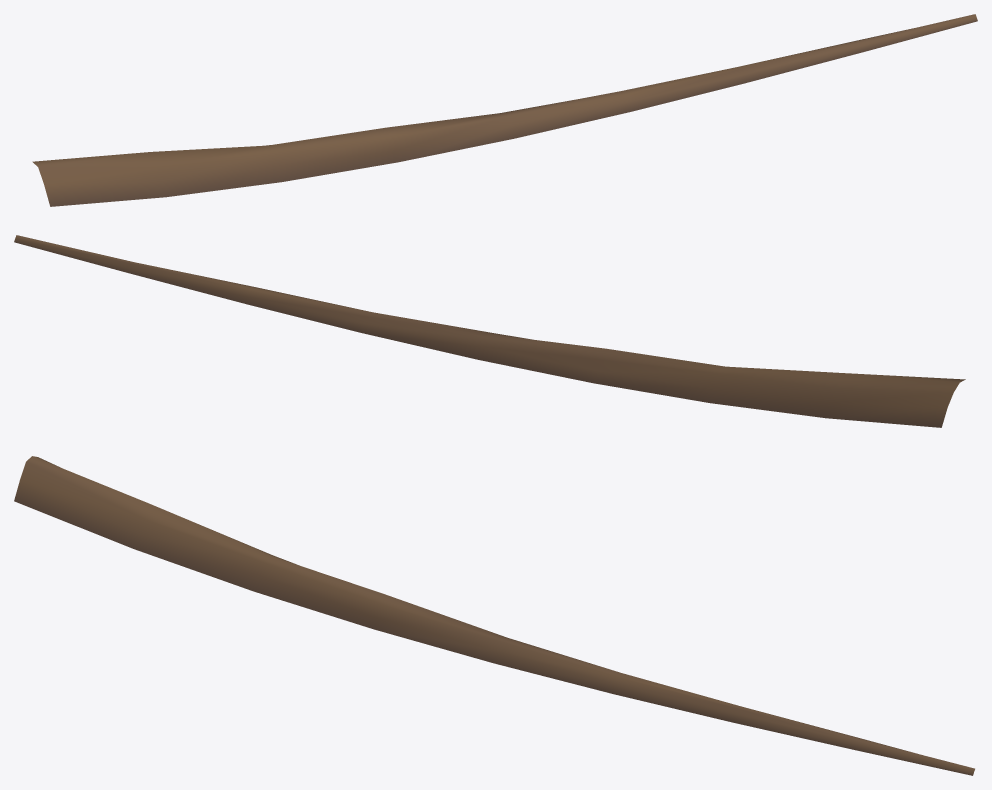
Rendered from glow.root-v3.glb.
The picture shows the model from 3 angles, top to bottom: view 1: azimuth 30°, elevation 25°; view 2: azimuth 150°, elevation 25°; view 3: azimuth 330°, elevation 25°; orthographic projection.
Parts seen in each view (by area): view 1: glow.root; view 2: glow.root; view 3: glow.root.
Part boxes in pixels (x1,y1,x2,y2): glow.root: [32, 14, 977, 206]; glow.root: [14, 235, 965, 427]; glow.root: [14, 456, 974, 775].
Bounding box in the file's own units: 3.6 × 0.3257 × 0.24.
